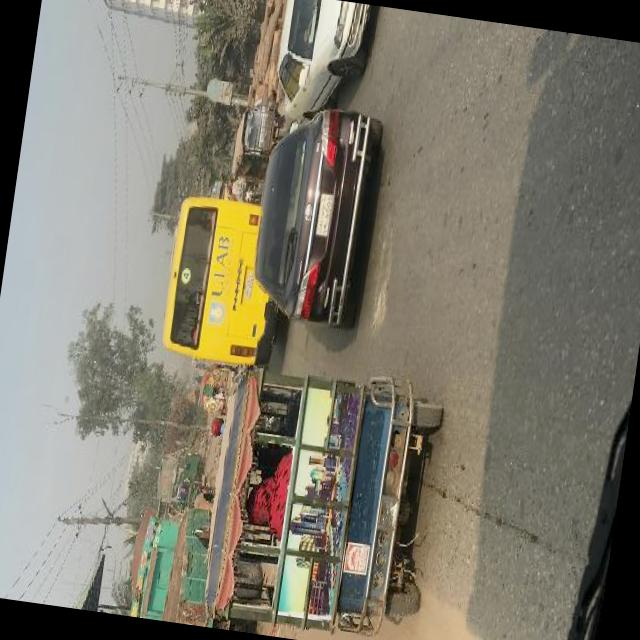bus: (158, 189, 292, 372)
car: (244, 98, 390, 329), (271, 0, 382, 125)
motorcycle: (198, 348, 457, 640), (229, 103, 291, 185), (195, 362, 239, 418), (175, 483, 204, 506), (224, 174, 242, 199), (240, 187, 262, 206)
truck: (124, 477, 216, 626)
